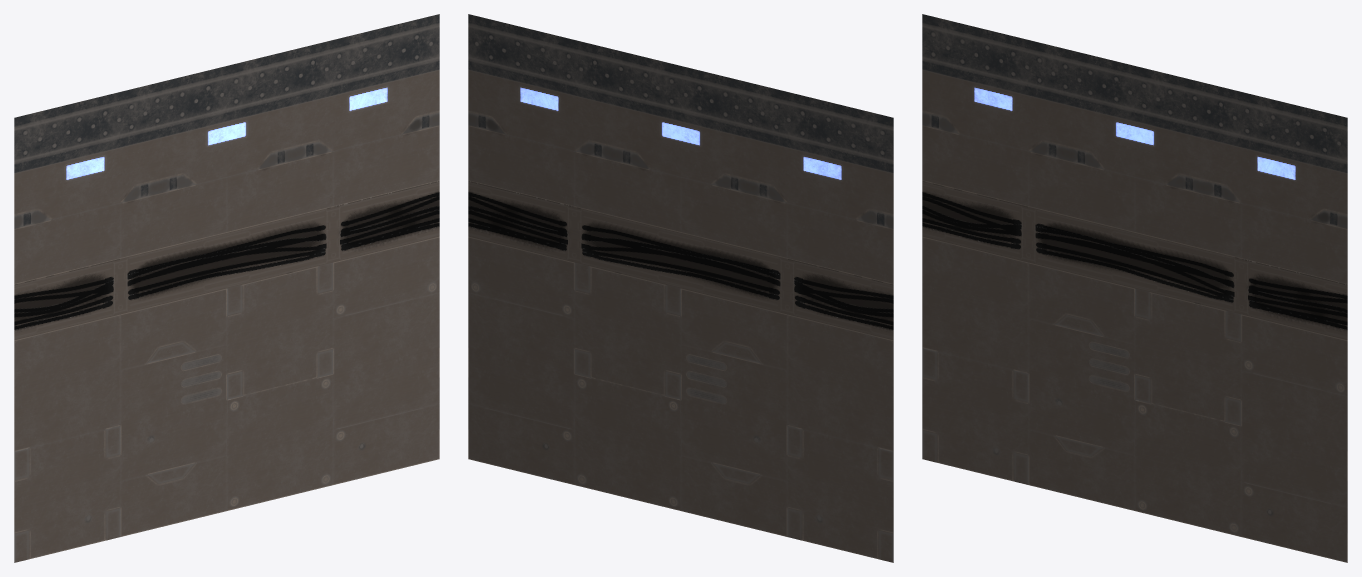
File: sci_-_fi_trim_sheet.glb
The picture shows the model from 3 angles, left to right: view 1: azimuth 30°, elevation 25°; view 2: azimuth 150°, elevation 25°; view 3: azimuth 330°, elevation 25°; orthographic projection.
Parts seen in each view (by area): view 1: TrimSheet_Wall_low; view 2: TrimSheet_Wall_low; view 3: TrimSheet_Wall_low.
Part boxes in pixels (x1,y1,x2,y2): TrimSheet_Wall_low: [14, 14, 439, 562]; TrimSheet_Wall_low: [468, 14, 893, 562]; TrimSheet_Wall_low: [922, 14, 1347, 562].
Size of the model in its own units: 400 by 400 by 1.13e-13.
Materials: 1 (1 with a texture image).
